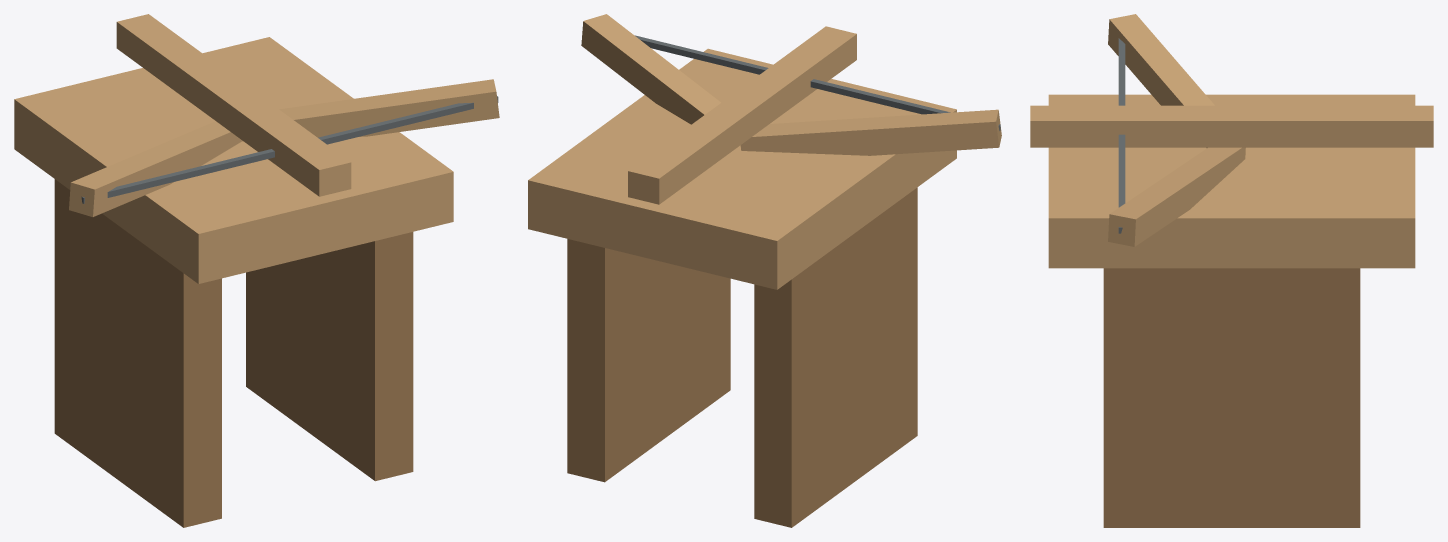
The model's file is crossbow-stand.glb.
The picture shows the model from 3 angles, left to right: view 1: azimuth 30°, elevation 25°; view 2: azimuth 150°, elevation 25°; view 3: azimuth 270°, elevation 25°; orthographic projection. The views are drawn at different scales.
Visible parts, largest first — view 1: crossbow-stand; view 2: crossbow-stand; view 3: crossbow-stand.
Part boxes in pixels (x1,y1,x2,y2): crossbow-stand: (14,14,499,527); crossbow-stand: (528,14,1001,527); crossbow-stand: (1030,14,1433,527).
Bounding box in the file's own units: 1.34 × 1.08 × 1.1.
